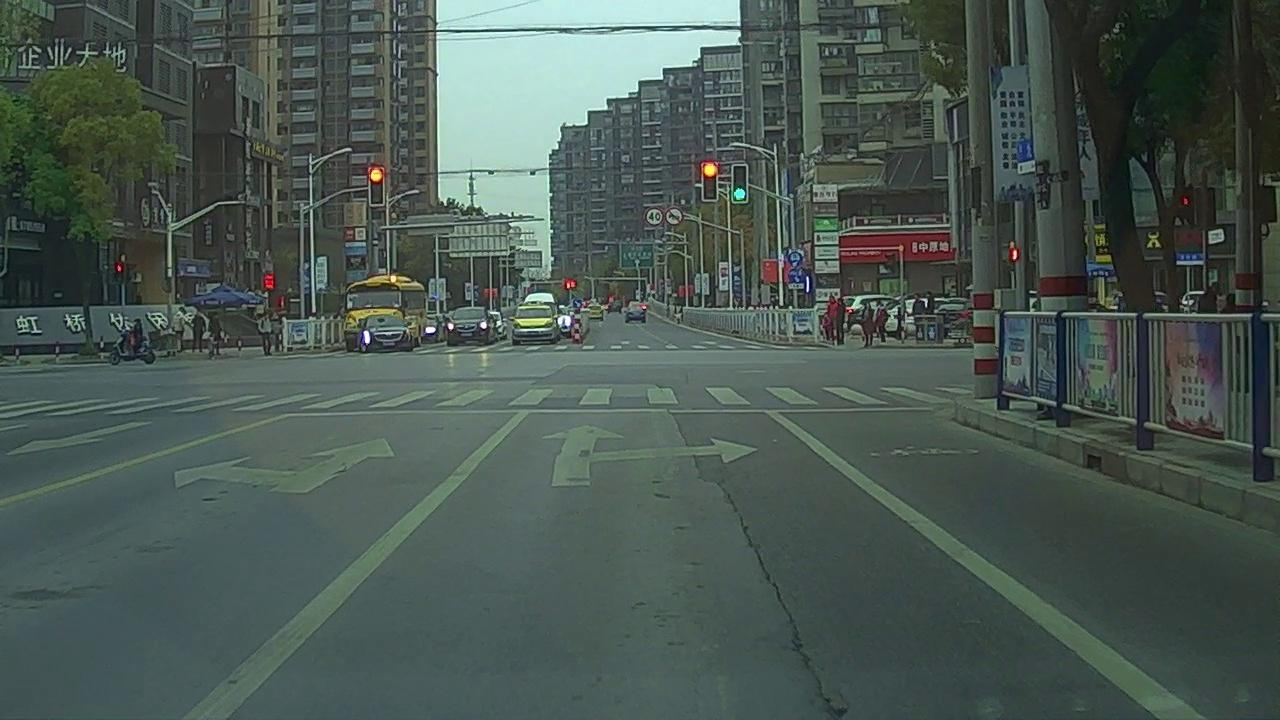traffic_light: (367, 167, 384, 206), (732, 165, 748, 203), (702, 163, 716, 202)
